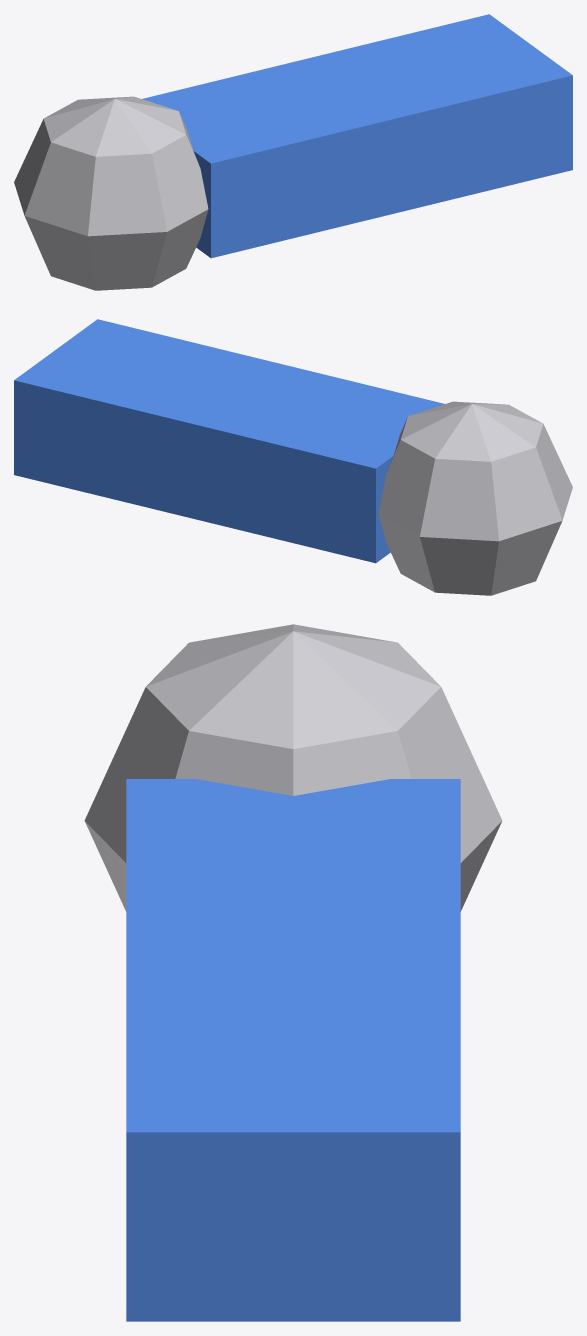
File: Nucleotide_T.fbx
3 renders of one model, top to bottom at view 1: azimuth 30°, elevation 25°; view 2: azimuth 150°, elevation 25°; view 3: azimuth 270°, elevation 25°, orthographic. The views are drawn at different scales.
Visible parts, largest first — view 1: Nucleotide_T; view 2: Nucleotide_T; view 3: Nucleotide_T.
Boxes of the visible parts, bbox=[...] form: Nucleotide_T: bbox=[14, 14, 572, 290]; Nucleotide_T: bbox=[14, 319, 572, 595]; Nucleotide_T: bbox=[84, 624, 502, 1321].
Bounding box in the file's own units: 0.028 × 0.01 × 0.01.
